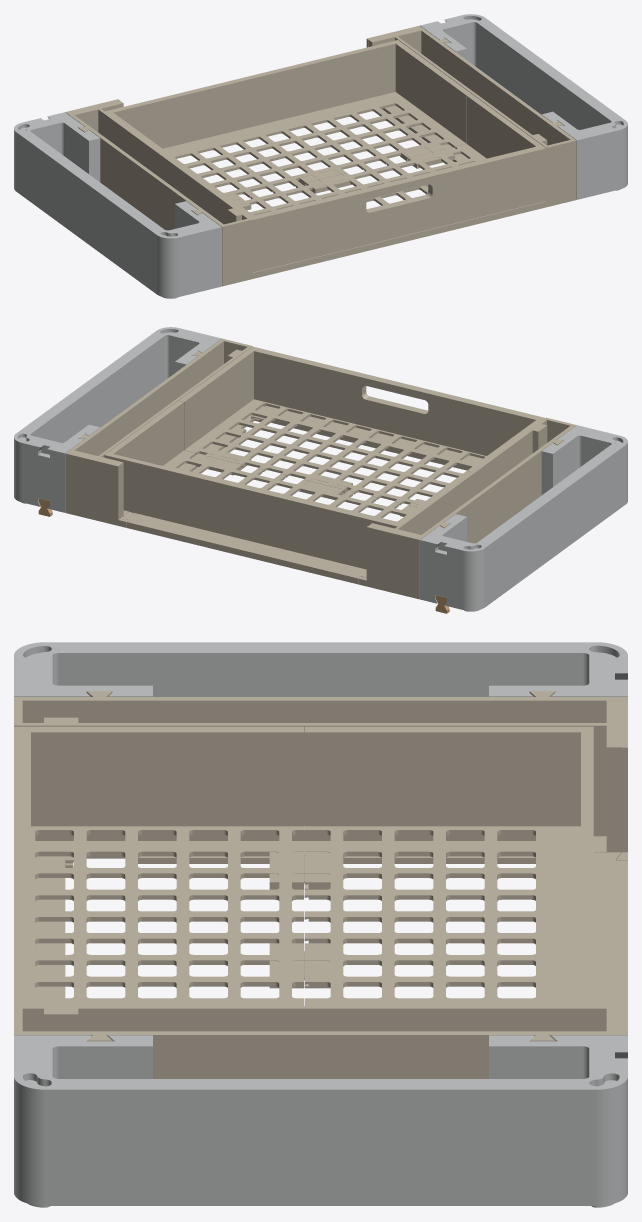
The model's file is layer-assembly.glb.
The picture shows the model from 3 angles, top to bottom: view 1: azimuth 30°, elevation 25°; view 2: azimuth 150°, elevation 25°; view 3: azimuth 270°, elevation 25°; orthographic projection. The views are drawn at different scales.
Visible parts, largest first — view 1: C08, C07, C09, C10, C03, C04, C05; view 2: C07, C08, C09, C10, C03, C04, C06, C05; view 3: C10, C08, C07, C04, C09, C03, C06, C05.
Boxes of the visible parts, left/top/right/bottom form: C08: left=105, top=40, right=471, bottom=200; C07: left=179, top=94, right=546, bottom=272; C09: left=14, top=112, right=221, bottom=298; C10: left=420, top=14, right=627, bottom=199; C03: left=65, top=99, right=283, bottom=286; C04: left=366, top=25, right=576, bottom=214; C05: left=283, top=209, right=514, bottom=271; C07: left=179, top=346, right=545, bottom=507; C08: left=104, top=401, right=470, bottom=569; C09: left=420, top=425, right=627, bottom=611; C10: left=14, top=327, right=221, bottom=512; C03: left=358, top=417, right=576, bottom=599; C04: left=65, top=338, right=278, bottom=527; C06: left=120, top=512, right=366, bottom=584; C05: left=271, top=411, right=482, bottom=470; C10: left=14, top=1035, right=627, bottom=1207; C08: left=304, top=726, right=593, bottom=1005; C07: left=14, top=726, right=304, bottom=1005; C04: left=14, top=984, right=627, bottom=1078; C09: left=14, top=642, right=627, bottom=696; C03: left=14, top=691, right=627, bottom=867; C06: left=593, top=852, right=627, bottom=1005; C05: left=35, top=860, right=65, bottom=998.
Size of the model in its own units: 0.495 by 0.068 by 0.287.
